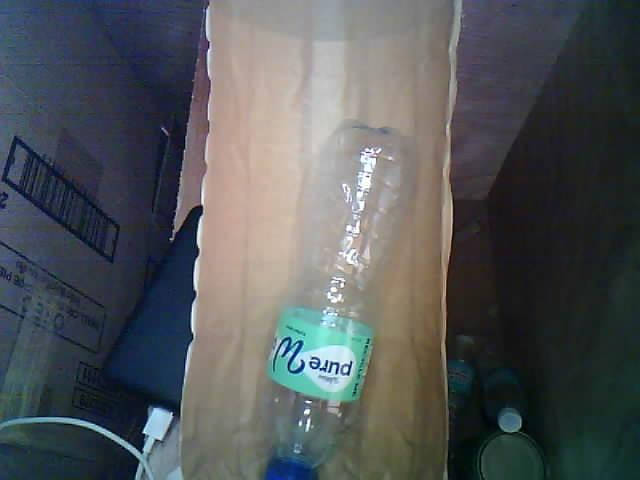small_bottle: (248, 106, 428, 480)
